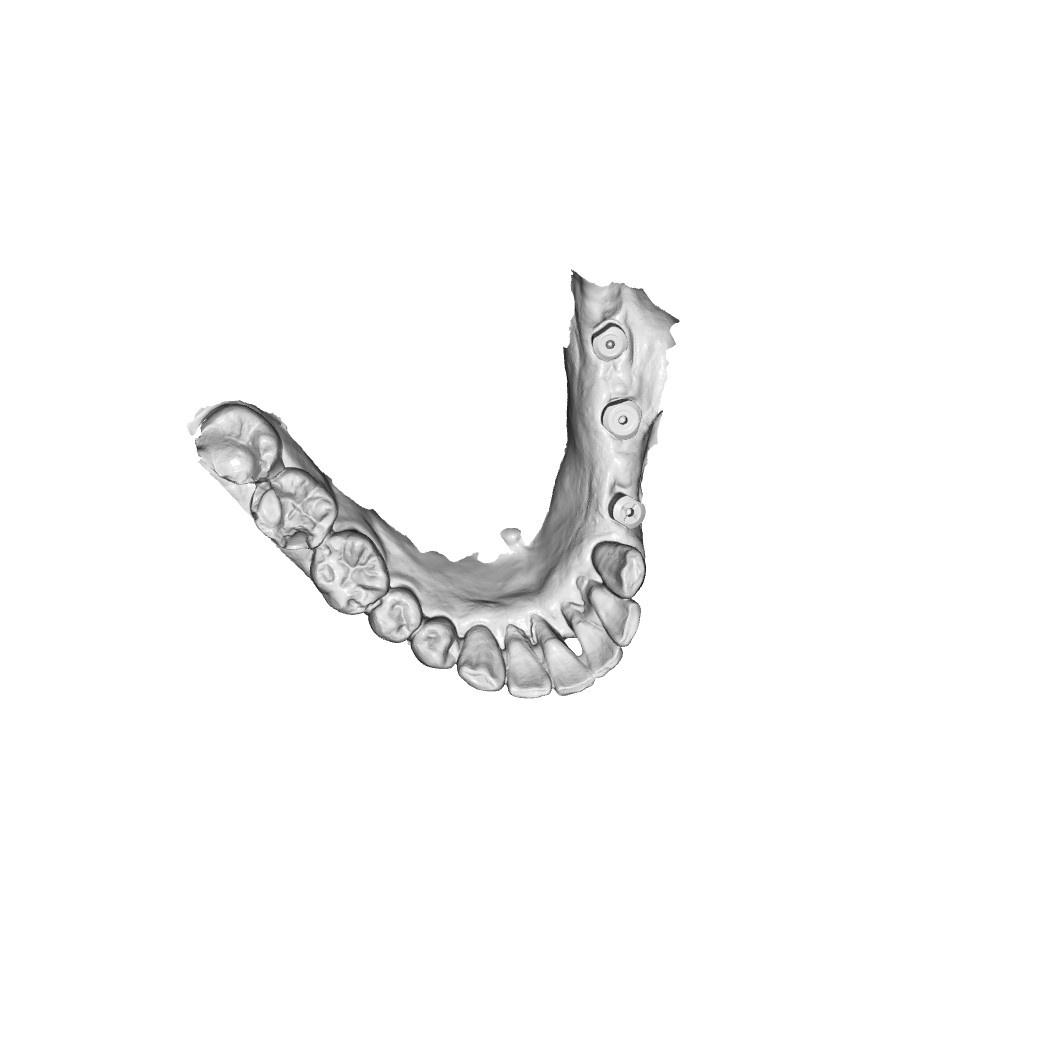canine: (592, 540, 649, 596), (456, 630, 506, 693)
implant: (597, 398, 643, 438), (589, 320, 630, 361)
implant_plus: (606, 490, 649, 530)
incisor: (569, 611, 626, 678), (541, 627, 596, 695), (588, 585, 643, 650), (505, 624, 548, 700)
molar: (197, 400, 278, 486), (312, 527, 383, 612), (253, 472, 329, 551)
premolar: (411, 615, 460, 672), (371, 589, 421, 642)
